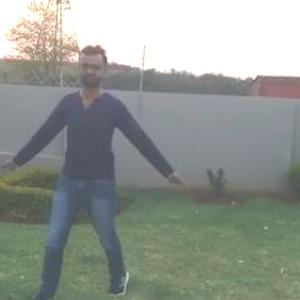land: (42, 65, 160, 238)
